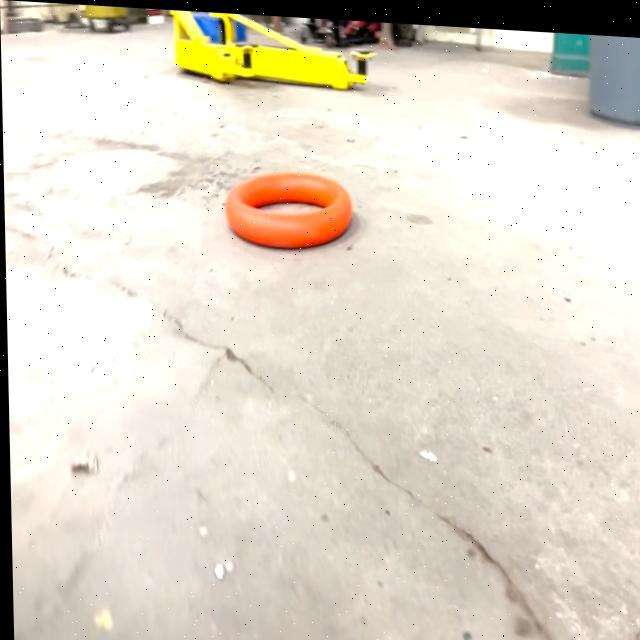note: (223, 162, 352, 247)
